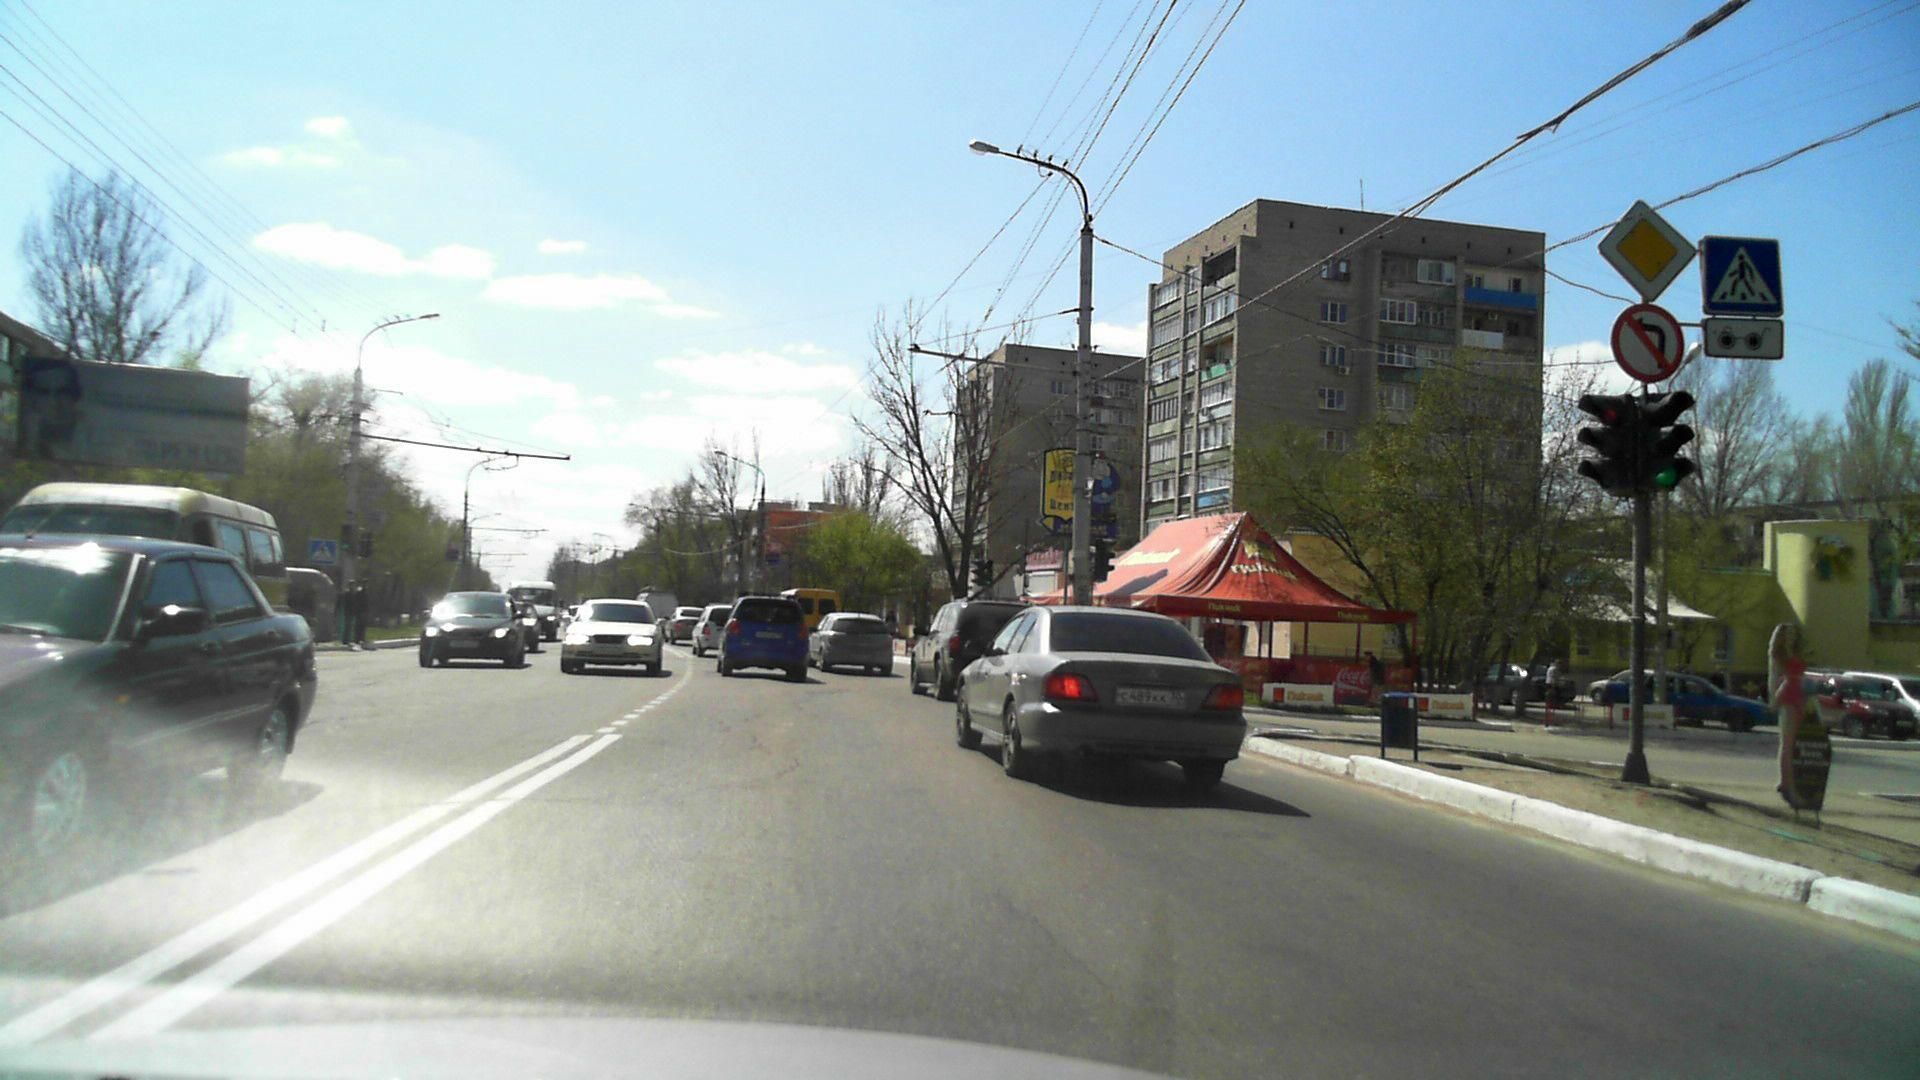2_1: (1597, 200, 1687, 299)
3_18_2: (1610, 305, 1687, 382)
5_19_1: (1702, 235, 1785, 313)
5_19_2: (314, 539, 334, 563)
8_15: (1702, 318, 1785, 359)
